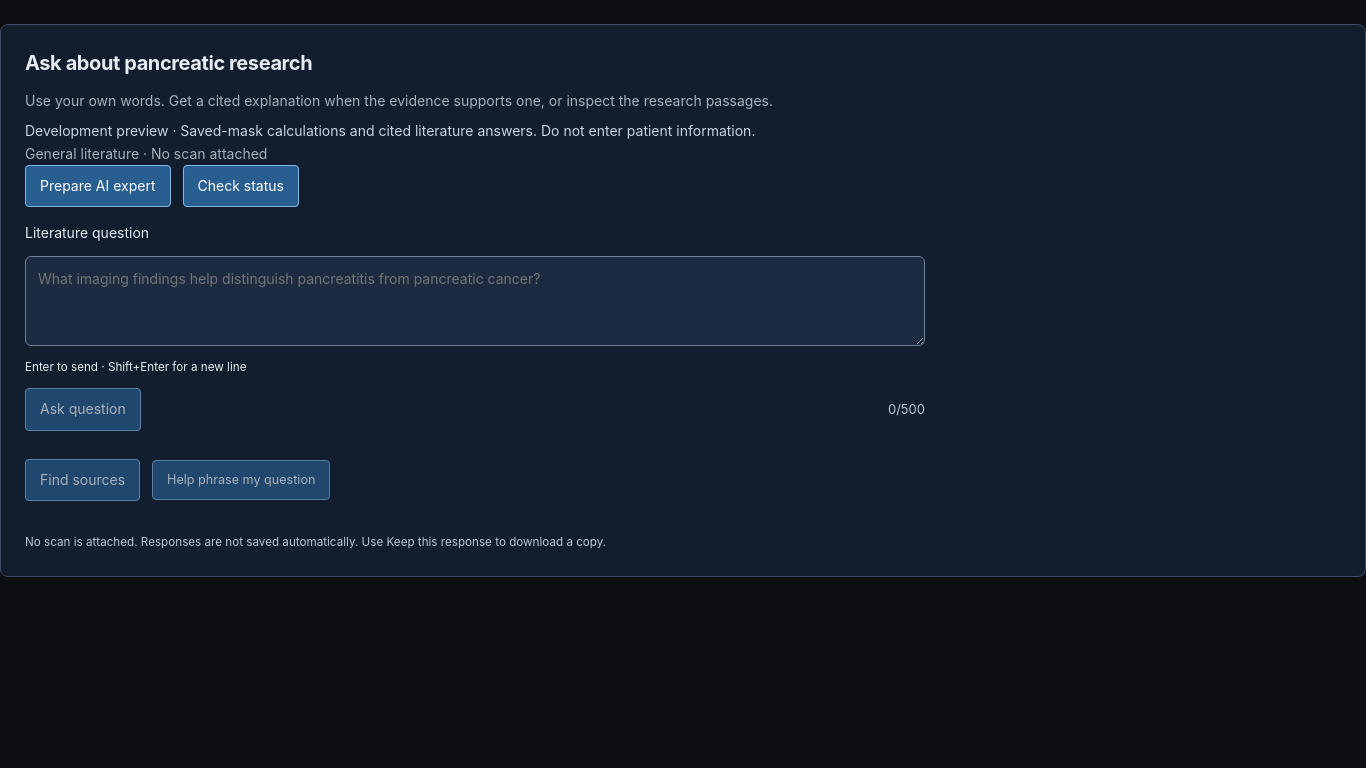
Test: keeps source search for current-scan questions local and explains the distinction
This screenshot has width=1366, height=768.
Type "how big is this pancreas?" into the text box labelled "Literature question". click: (475, 301)
box: [25, 256, 925, 346]
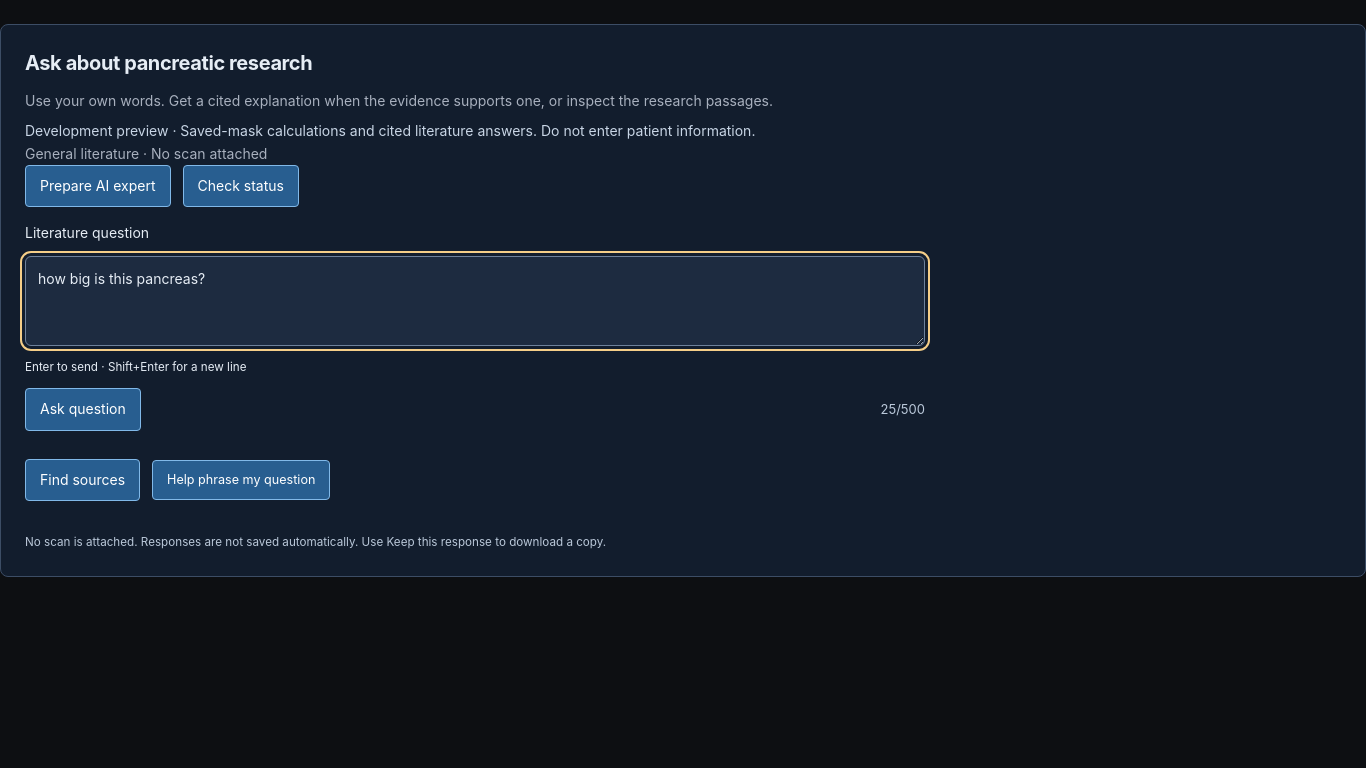
Click the button "Find sources". click: (83, 480)
box: [25, 459, 140, 501]
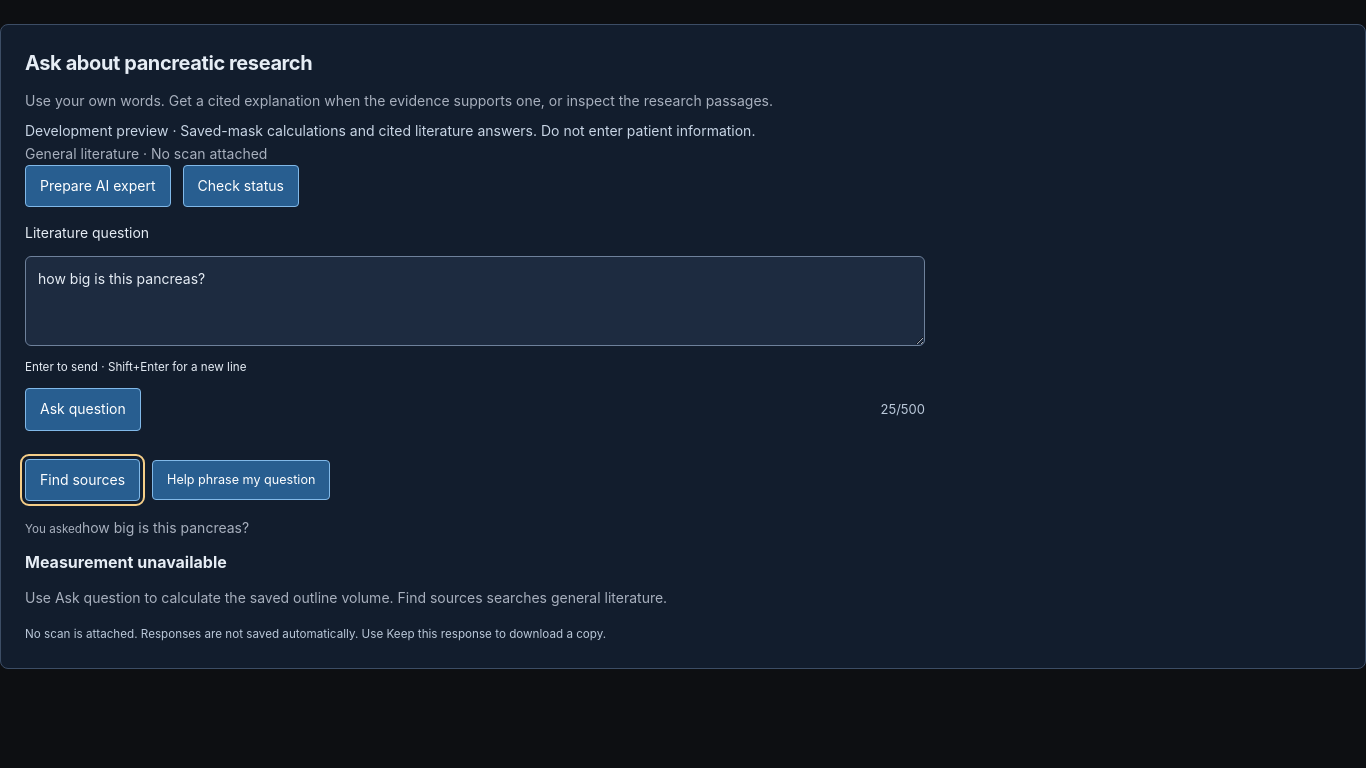
Expected: the text "Use Ask question to calculate" is shown, [25, 589, 667, 606]
